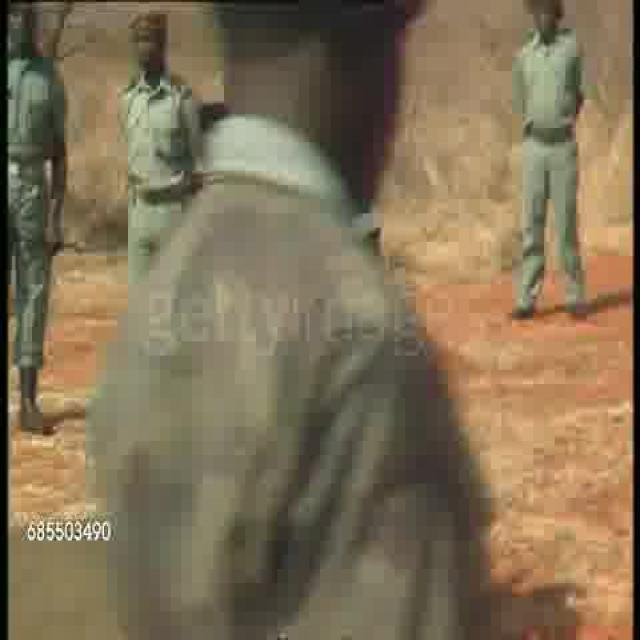poacher: (197, 2, 456, 620), (504, 2, 607, 338), (1, 2, 72, 441), (118, 3, 198, 217)
